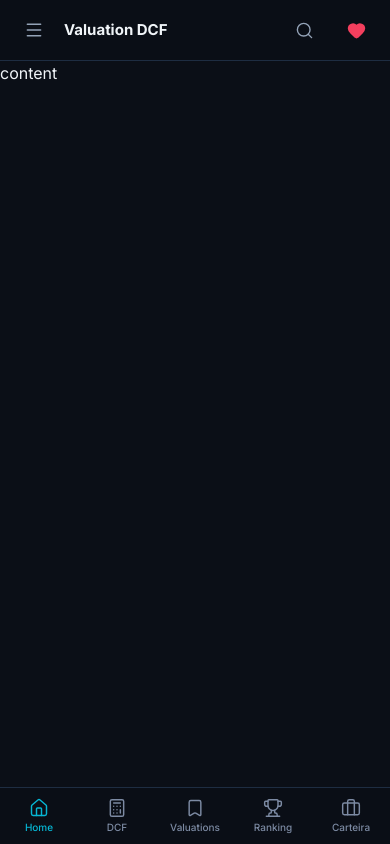
Scenario: Layout mobile drawer › fecha a gaveta ao clicar no scrim
Click the button named "Abrir menu" at (34, 30), box [12,8,56,52]
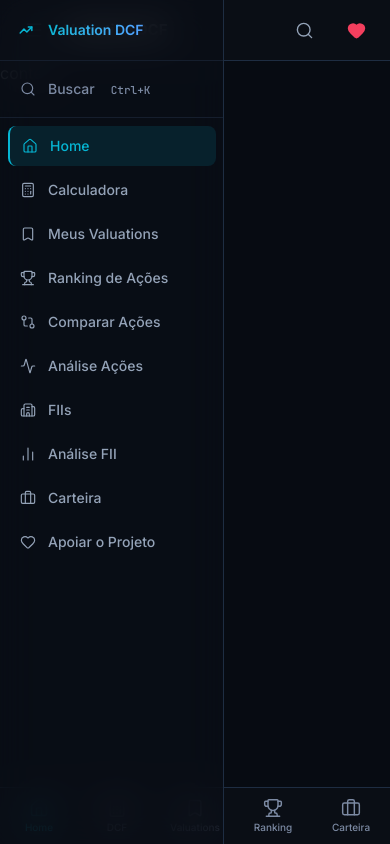
Click the element with test id "sidebar-scrim" at (367, 422), box [0,0,389,843]
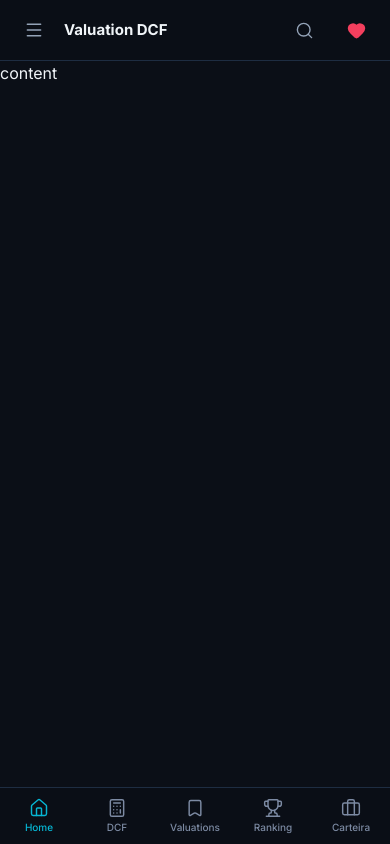
Now the element with test id "sidebar-scrim" is gone
